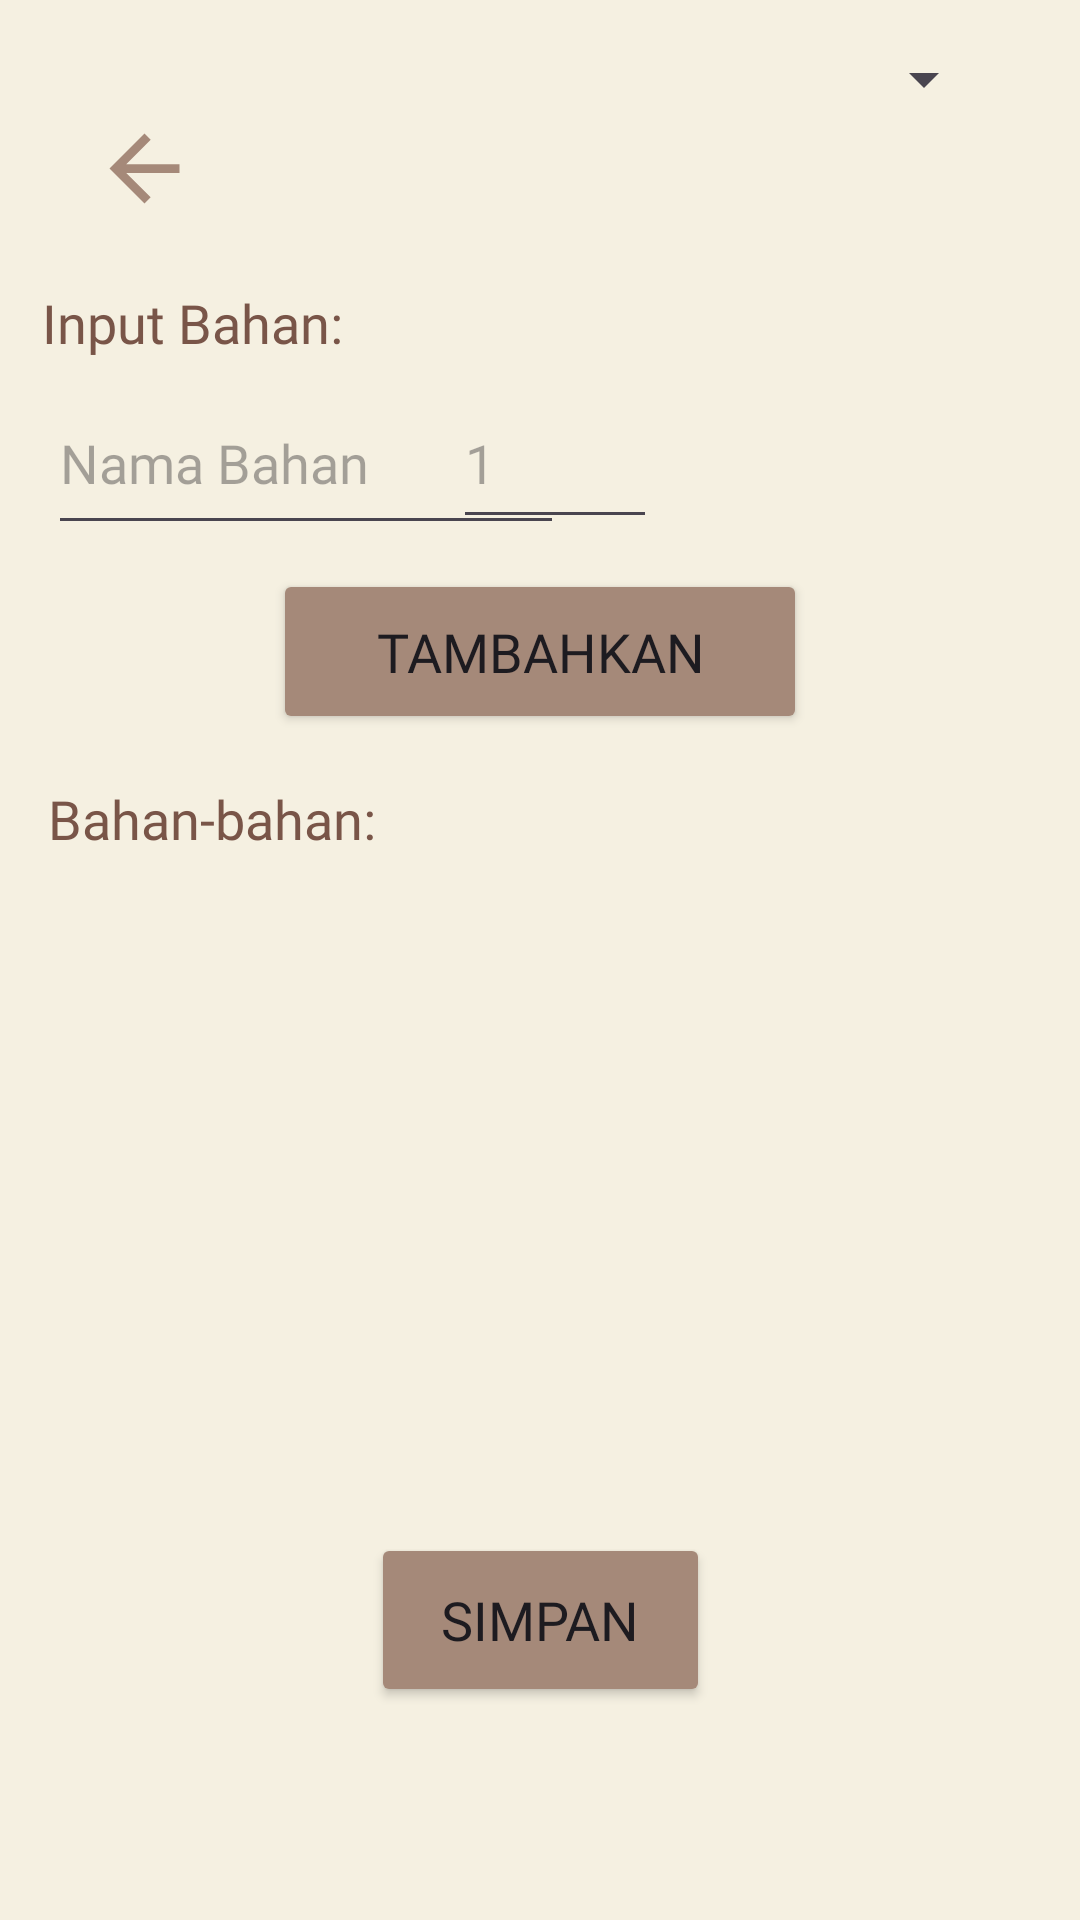

Where to tap for icons on this 1080 x 1920 app screen, as (x,y):
Back Button: (144,168)
